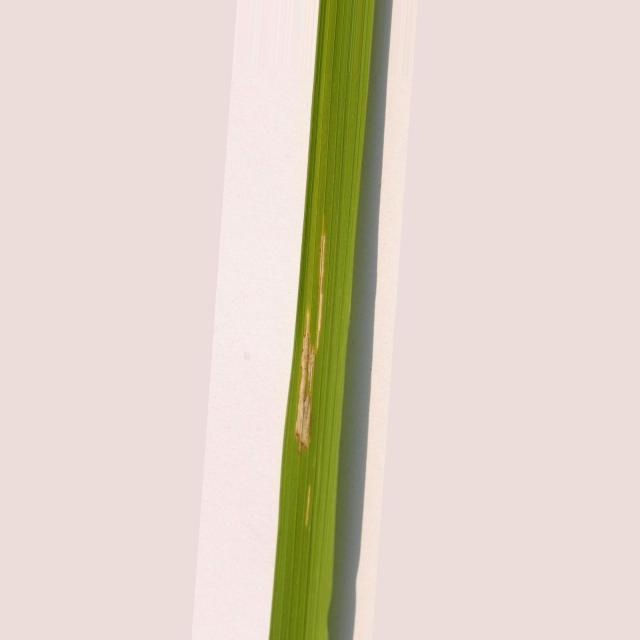Bacterial_Leaf_Blight: (295, 309, 316, 451), (316, 219, 325, 344), (305, 485, 311, 526)
